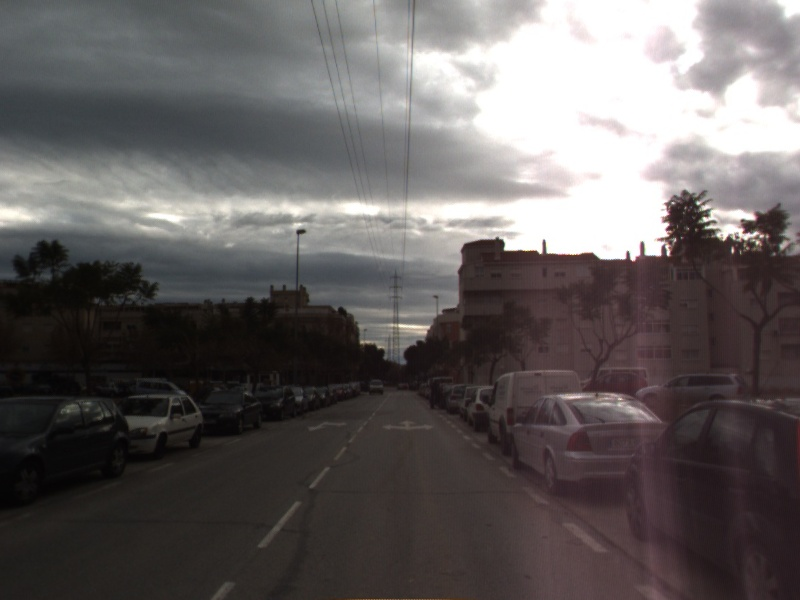STRAIGHT_LEFT_RIGHT: (380, 418, 437, 432)
